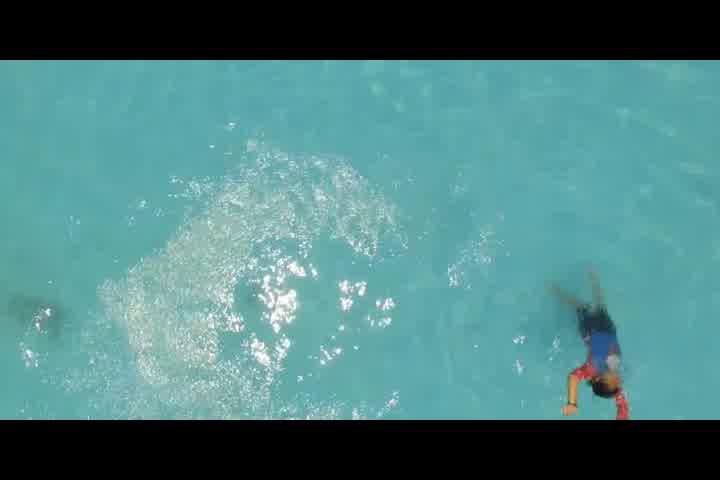swimmer: (544, 267, 634, 420)
